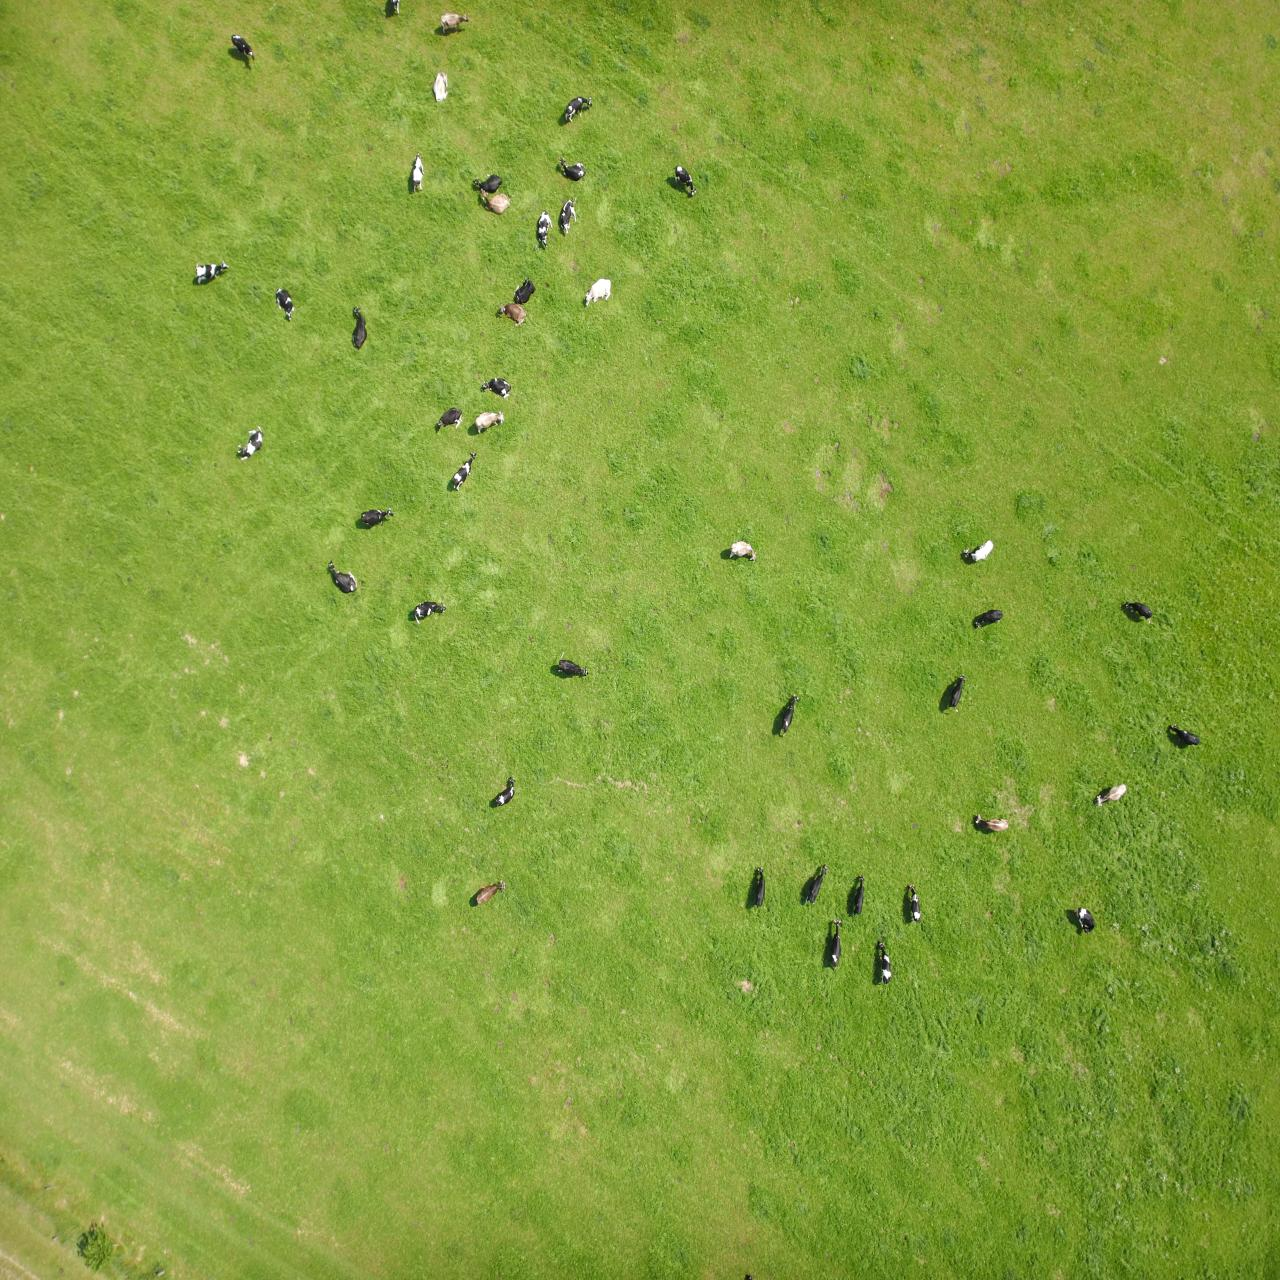cow: (452, 374, 476, 415), (1016, 818, 1042, 855), (922, 687, 951, 720), (804, 789, 826, 826), (1051, 995, 1084, 1020), (481, 540, 498, 585), (314, 566, 333, 607), (774, 374, 803, 400), (770, 1064, 799, 1090), (692, 604, 722, 628), (694, 1098, 721, 1125), (754, 953, 782, 979), (687, 1158, 715, 1184), (127, 656, 156, 681), (152, 472, 183, 496), (668, 974, 694, 1001), (811, 1245, 840, 1268), (985, 960, 1005, 993), (80, 535, 110, 556), (286, 717, 316, 738), (835, 658, 865, 679), (271, 448, 305, 467), (913, 930, 927, 974), (744, 974, 767, 1002), (778, 1084, 806, 1107), (769, 881, 798, 903), (703, 1047, 719, 1087), (817, 849, 843, 872), (885, 755, 919, 772), (776, 846, 804, 867), (1026, 1220, 1049, 1245), (524, 716, 550, 738), (185, 346, 206, 373), (438, 309, 449, 362), (764, 474, 783, 502), (277, 652, 305, 670), (728, 1032, 742, 1068), (831, 1177, 846, 1210), (389, 295, 401, 338), (415, 363, 427, 406), (359, 358, 370, 395), (856, 1088, 866, 1126), (515, 372, 524, 413)
